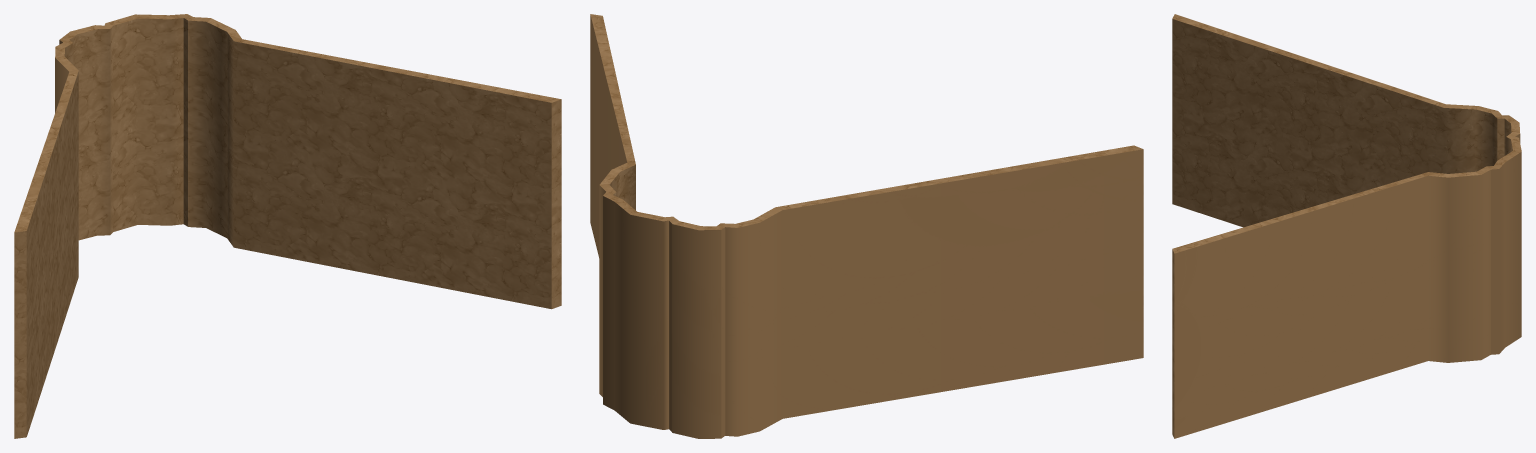
The model's file is Mountain.FBX.
3 views of the same model, side by side, from view 1: azimuth 30°, elevation 25°; view 2: azimuth 150°, elevation 25°; view 3: azimuth 270°, elevation 25° (orthographic). The views are drawn at different scales.
Visible parts, largest first — view 1: Mounting; view 2: Mounting; view 3: Mounting.
Part boxes in pixels (<box>): Mounting: <box>14,14,561,438</box>; Mounting: <box>590,14,1143,438</box>; Mounting: <box>1172,14,1521,438</box>.
Size of the model in its own units: 64.04 by 23.08 by 39.47.
